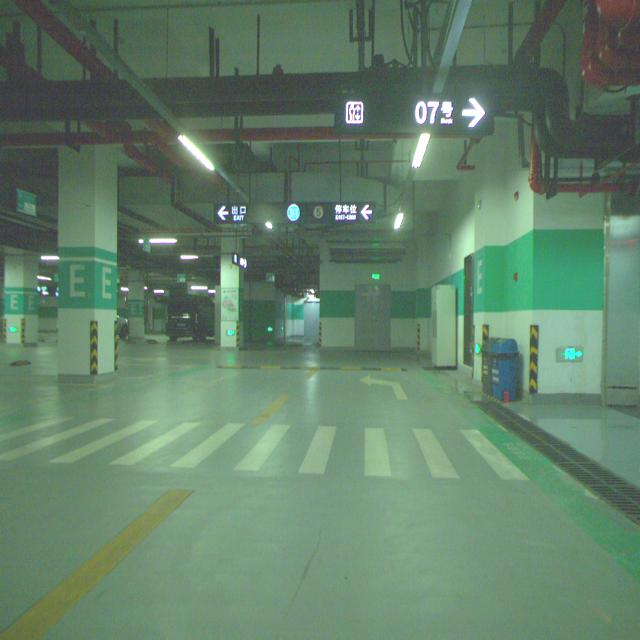pillar: (59, 147, 116, 383), (4, 247, 39, 344), (220, 238, 244, 348)
